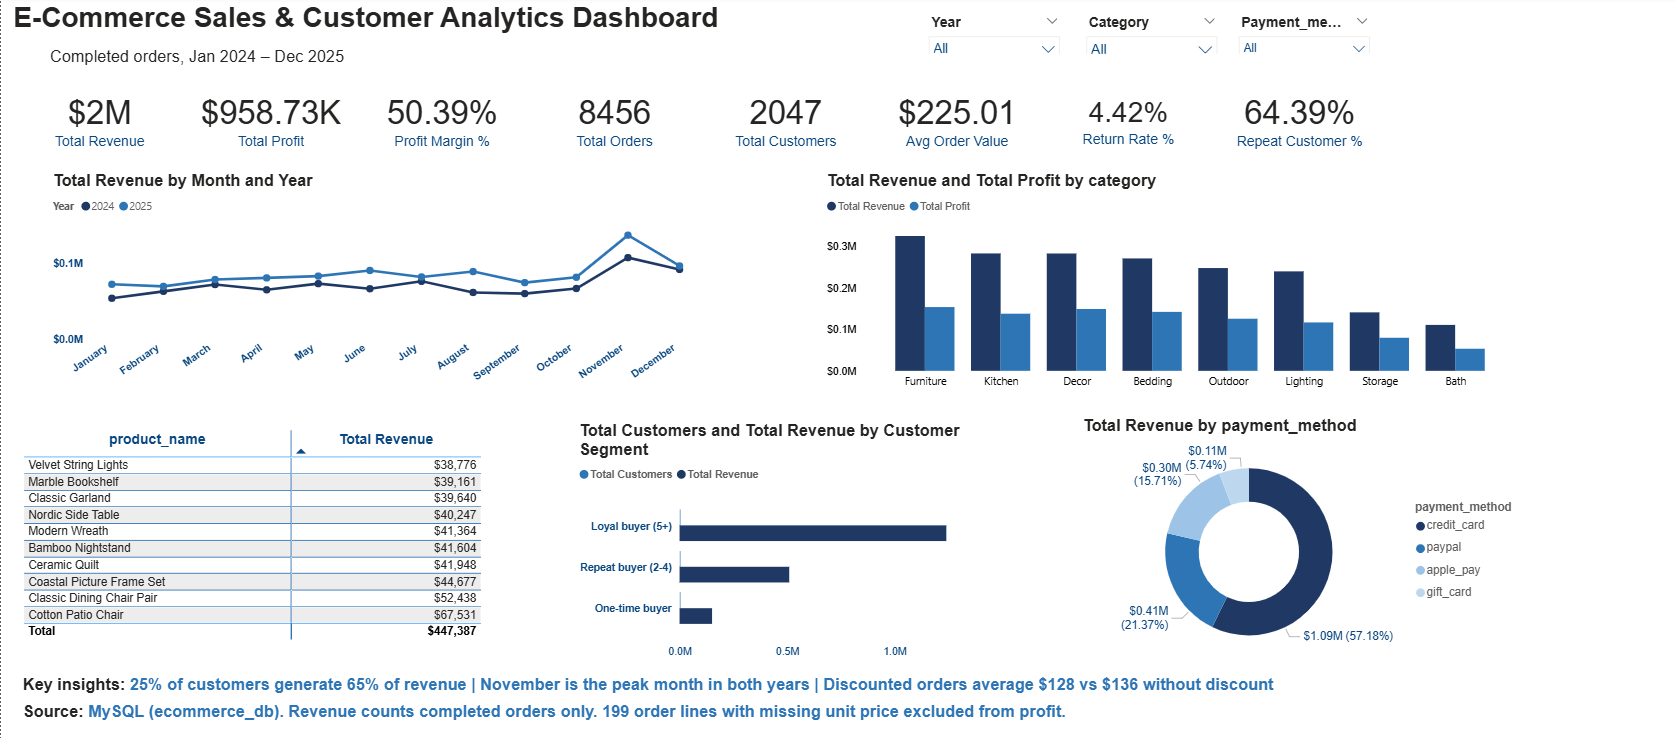

What the dashboard file says about the page in this screenshot:
{"tool":"powerbi","page":{"name":"Page 1","canvas":[1920,1080],"ordinal":0},"visuals":[{"type":"card","fields":{"Values":["order_items.Total Revenue"]},"box":[20,95,186,90],"z":0},{"type":"card","fields":{"Values":["order_items.Total Orders"]},"box":[608,95.4,186,90],"z":1000},{"type":"card","fields":{"Values":["order_items.Avg Order Value"]},"box":[1000,95.4,186,90],"z":2000},{"type":"card","fields":{"Values":["order_items.Total Customers"]},"box":[804,95,186,90],"z":3000},{"type":"card","fields":{"Values":["order_items.Profit Margin %"]},"box":[412,95,186,90],"z":4000},{"type":"lineChart","fields":{"Category":["orders.order_date.Variation.Date Hierarchy.Month"],"Y":["order_items.Total Revenue"],"Series":["orders.order_date.Variation.Date Hierarchy.Year"]},"box":[54.3,200,750,258.6],"z":5000},{"type":"clusteredColumnChart","fields":{"Category":["products.category"],"Y":["order_items.Total Revenue","order_items.Total Profit"]},"box":[938.6,200,798.6,258.6],"z":6000},{"type":"textbox","box":[0,1.4,851.4,52.9],"z":7000},{"type":"textbox","box":[20,54.3,391.4,41.4],"z":8000},{"type":"donutChart","fields":{"Category":["orders.payment_method"],"Y":["order_items.Total Revenue"]},"box":[1231.4,480,515.7,290],"z":9000},{"type":"tableEx","fields":{"Values":["products.product_name","order_items.Total Revenue"]},"box":[20,491.4,534.3,261.4],"z":10000},{"type":"card","fields":{"Values":["order_items.Total Profit"]},"box":[216,95,186,90],"z":11000},{"type":"card","fields":{"Values":["customers.Return Rate %"]},"box":[1196,95,186,90.7],"z":12000},{"type":"card","fields":{"Values":["customers.Repeat Customer %"]},"box":[1392,95,186,90],"z":13000},{"type":"clusteredBarChart","fields":{"Category":["customers.Customer Segment"],"Y":["order_items.Total Customers","order_items.Total Revenue"]},"box":[655.7,485.7,482.9,280],"z":14000},{"type":"slicer","fields":{"Values":["orders.order_date.Variation.Date Hierarchy.Year"]},"box":[1050,15,170,50],"z":15000},{"type":"slicer","fields":{"Values":["products.category"]},"box":[1230,15,170,50],"z":16000},{"type":"slicer","fields":{"Values":["orders.payment_method"]},"box":[1404,15,170,50],"z":17000},{"type":"textbox","box":[20,771.4,1514.3,31.4],"z":18000},{"type":"textbox","box":[20,802.9,1231.4,34.3],"z":19000}]}

Visuals, with their boxes on the page's 1920x1080 design canvas (x1, y1, x2, y2). These are canvas units, not pixel positions in the 1676x738 screenshot, which may show the page scaled, cropped or inside an application window:
card - order_items.Total Revenue: bbox(20, 95, 206, 185)
card - order_items.Total Orders: bbox(608, 95, 794, 185)
card - order_items.Avg Order Value: bbox(1000, 95, 1186, 185)
card - order_items.Total Customers: bbox(804, 95, 990, 185)
card - order_items.Profit Margin %: bbox(412, 95, 598, 185)
lineChart - orders.order_date.Variation.Date Hierarchy.Month x order_items.Total Revenue: bbox(54, 200, 804, 459)
clusteredColumnChart - products.category x order_items.Total Revenue: bbox(939, 200, 1737, 459)
textbox: bbox(0, 1, 851, 54)
textbox: bbox(20, 54, 411, 96)
donutChart - orders.payment_method x order_items.Total Revenue: bbox(1231, 480, 1747, 770)
tableEx - products.product_name x order_items.Total Revenue: bbox(20, 491, 554, 753)
card - order_items.Total Profit: bbox(216, 95, 402, 185)
card - customers.Return Rate %: bbox(1196, 95, 1382, 186)
card - customers.Repeat Customer %: bbox(1392, 95, 1578, 185)
clusteredBarChart - customers.Customer Segment x order_items.Total Customers: bbox(656, 486, 1139, 766)
slicer - orders.order_date.Variation.Date Hierarchy.Year: bbox(1050, 15, 1220, 65)
slicer - products.category: bbox(1230, 15, 1400, 65)
slicer - orders.payment_method: bbox(1404, 15, 1574, 65)
textbox: bbox(20, 771, 1534, 803)
textbox: bbox(20, 803, 1251, 837)
